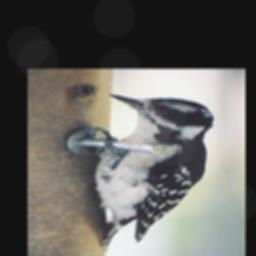Woodpecker: (86, 93, 214, 251)
